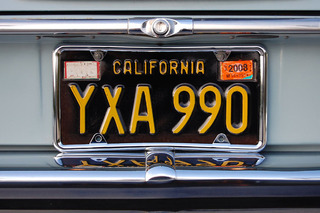license plate: (49, 41, 268, 152)
